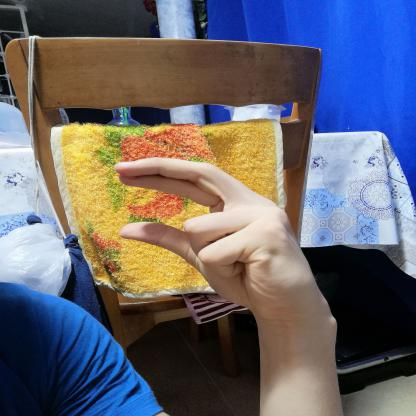DHELL: (100, 149, 336, 314)
